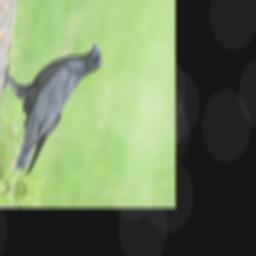Crow: (0, 29, 107, 186)
